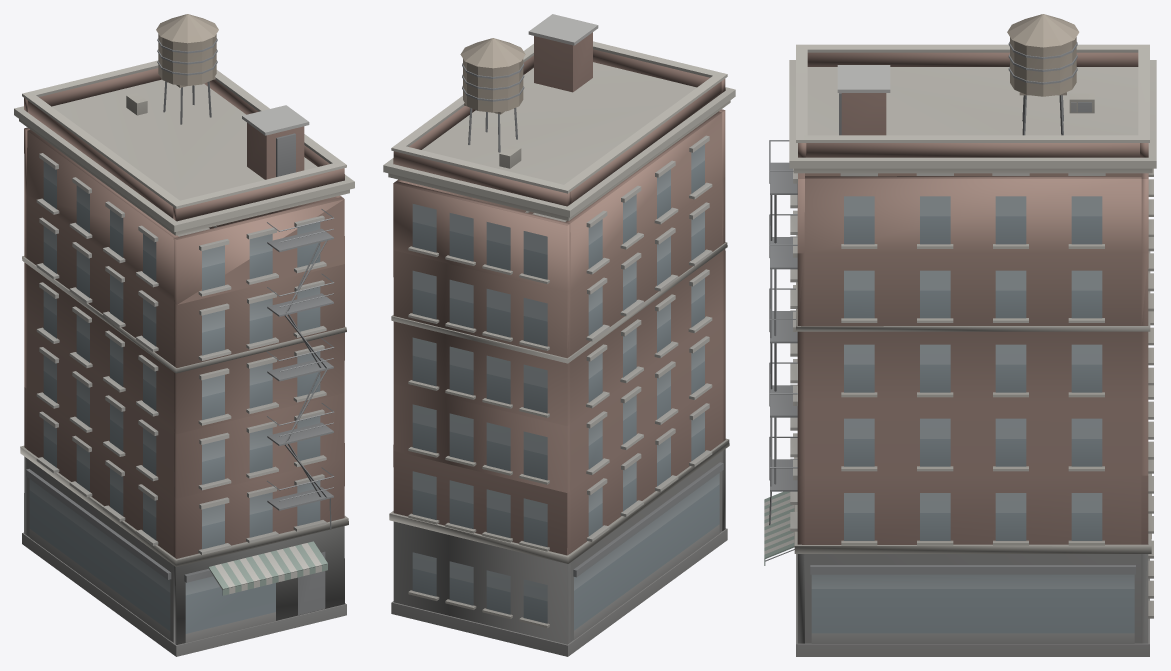
The model's file is cornerten.lod1.glb.
The picture shows the model from 3 angles, left to right: view 1: azimuth 30°, elevation 25°; view 2: azimuth 150°, elevation 25°; view 3: azimuth 270°, elevation 25°; orthographic projection. The views are drawn at different scales.
Size of the model in its own units: 8.6 by 24.32 by 14.11.
